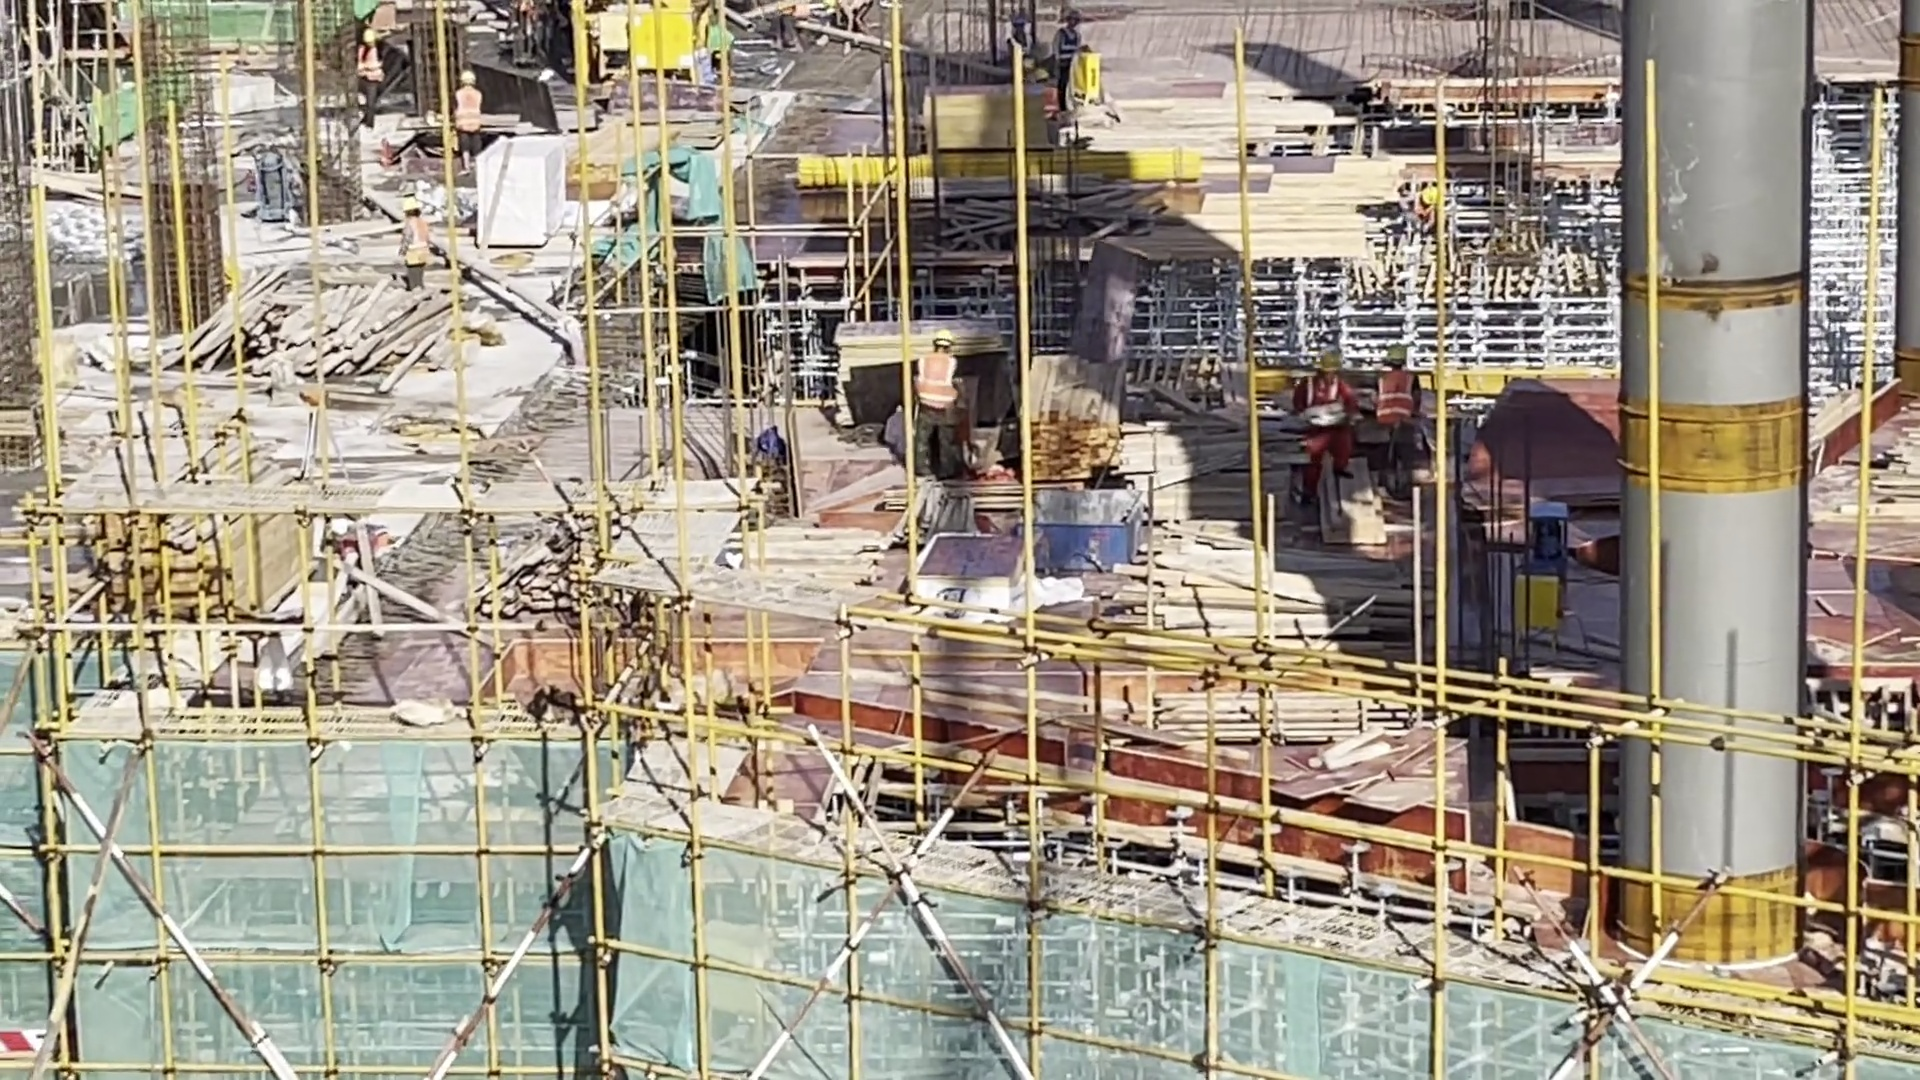helmet: (1382, 344, 1415, 375), (1313, 349, 1342, 375), (931, 328, 955, 352), (1418, 184, 1439, 210), (1062, 10, 1083, 27), (458, 70, 478, 86), (363, 27, 377, 48)
person: (1298, 341, 1361, 516), (916, 322, 965, 504), (1376, 338, 1425, 488), (390, 195, 437, 320), (448, 68, 495, 184), (348, 27, 394, 137), (1055, 6, 1094, 116), (1412, 181, 1452, 265)
vest: (1303, 366, 1352, 445), (1377, 367, 1420, 430), (918, 350, 959, 417), (453, 85, 485, 136), (406, 213, 434, 272), (1056, 29, 1085, 73), (356, 48, 382, 85)
